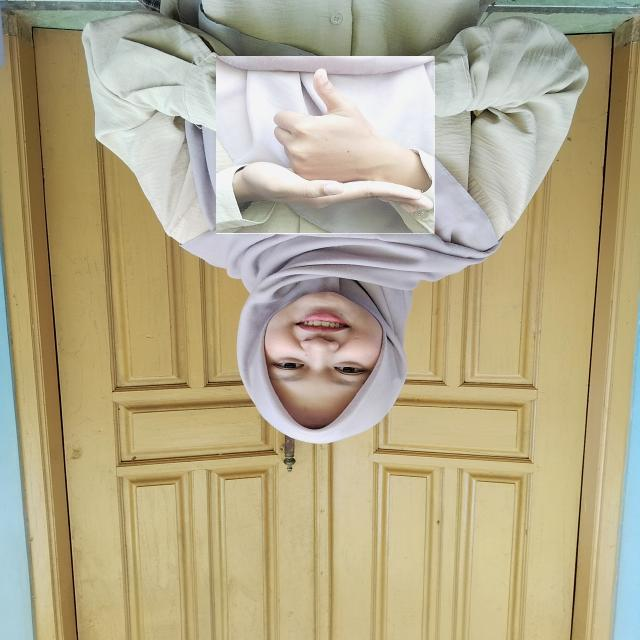cantik: (216, 56, 435, 234)
